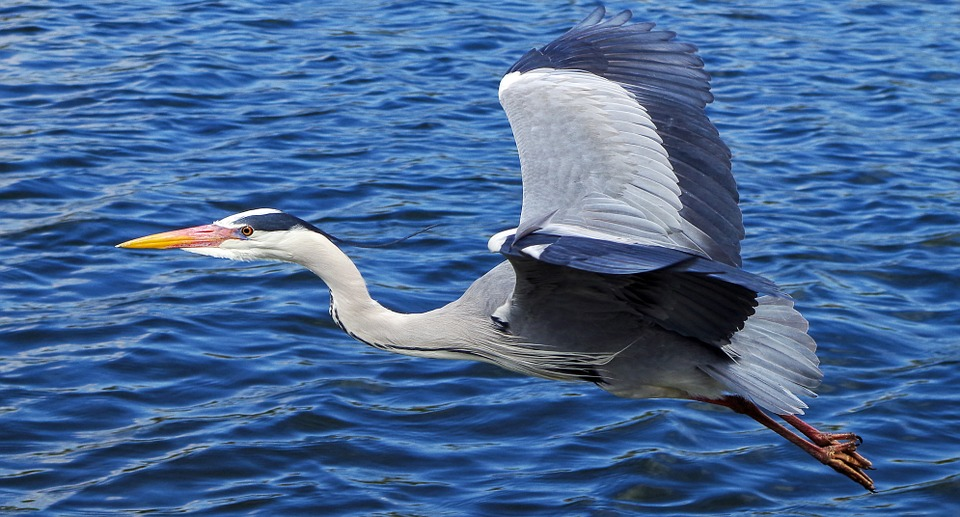heron: (111, 9, 885, 501)
